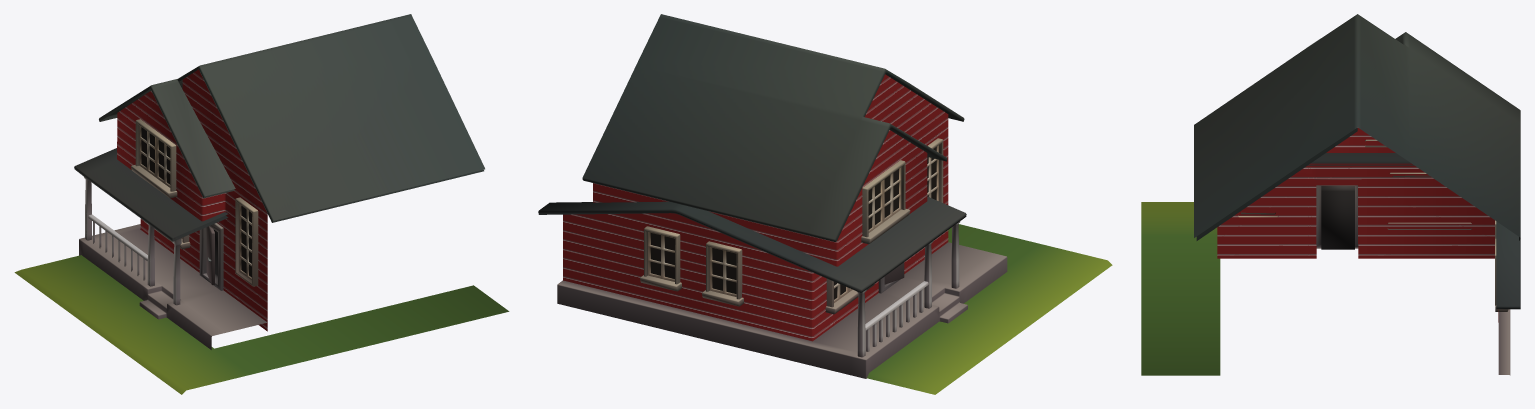
The model's file is House.fbx.
3 renders of one model, left to right at view 1: azimuth 30°, elevation 25°; view 2: azimuth 150°, elevation 25°; view 3: azimuth 270°, elevation 25°, orthographic. The views are drawn at different scales.
Visible parts, largest first — view 1: House; view 2: House; view 3: House.
Boxes of the visible parts, x1,y1,x2,y2 form: House: (14,14,509,394); House: (538,14,1112,394); House: (1141,14,1520,375).
Bounding box in the file's own units: 2215 × 1313 × 1790.
